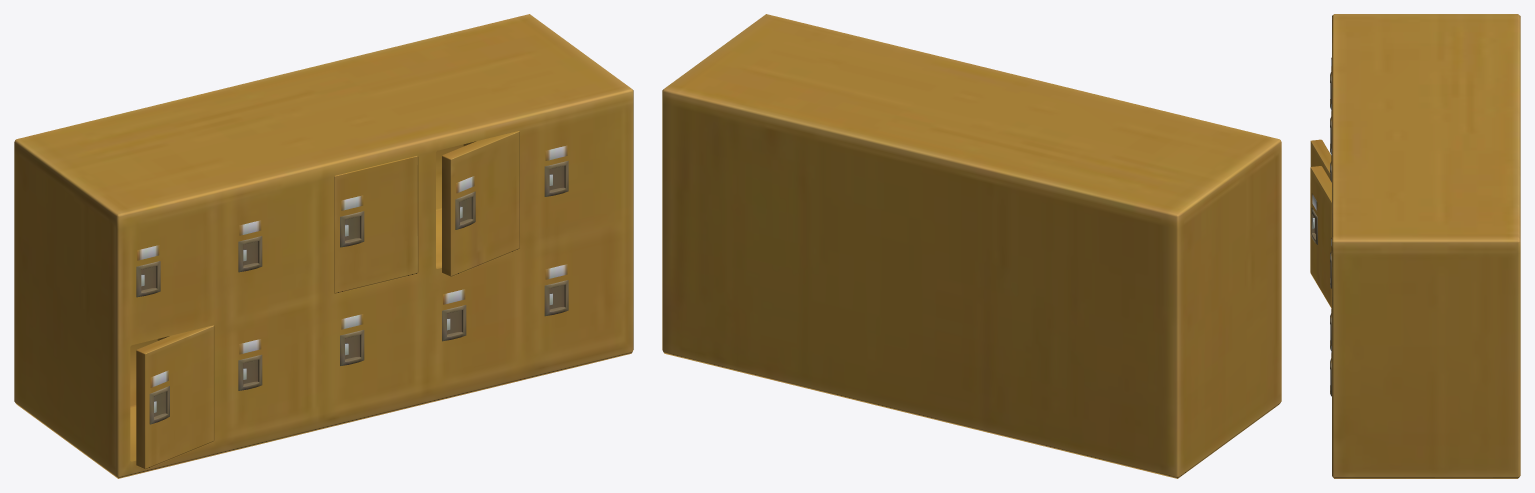
The picture shows the model from 3 angles, left to right: view 1: azimuth 30°, elevation 25°; view 2: azimuth 150°, elevation 25°; view 3: azimuth 270°, elevation 25°; orthographic projection. The views are drawn at different scales.
Bounding box in the file's own units: 20 × 9.8 × 7.8.
Materials: 2 (2 with a texture image).
